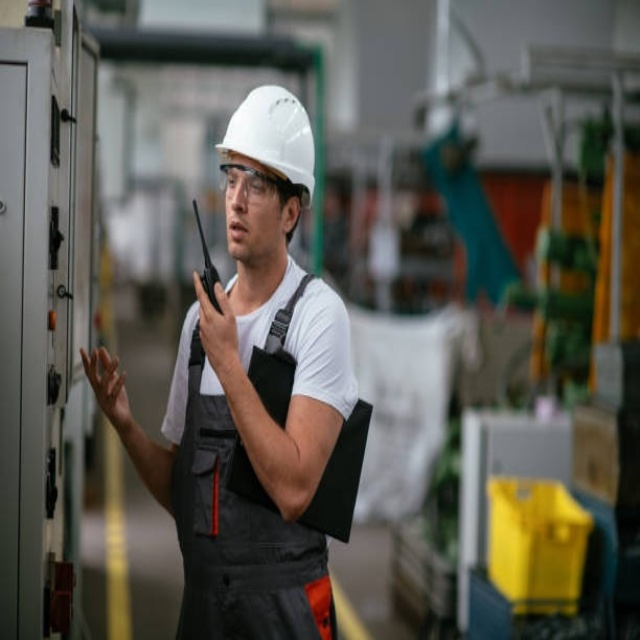Gafas: (219, 165, 289, 204)
Sin_guantes: (188, 267, 243, 369), (77, 340, 130, 420)
Sin_mascara: (224, 212, 253, 256)
